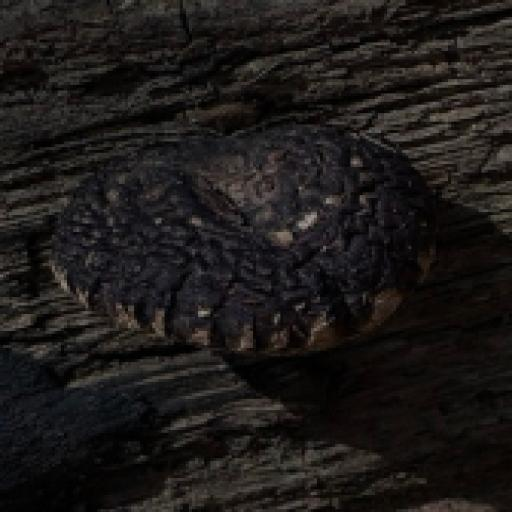Shiitake Mushroom: (49, 105, 433, 356)
